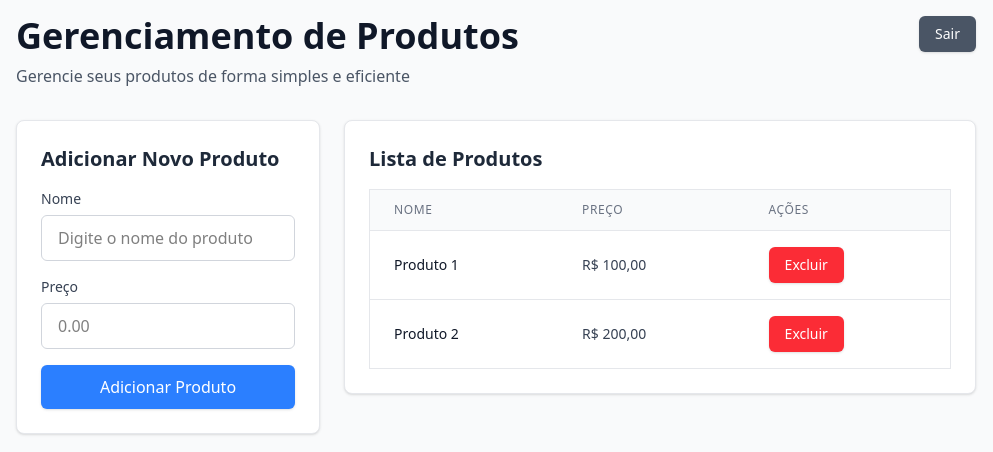
Test case: Products › remove produto da lista
Check: the text "Produto 1" is shown, box [370,230,558,300]
Click the button "Excluir" in the row of "Produto 1" at (806, 265), box [769,247,844,283]
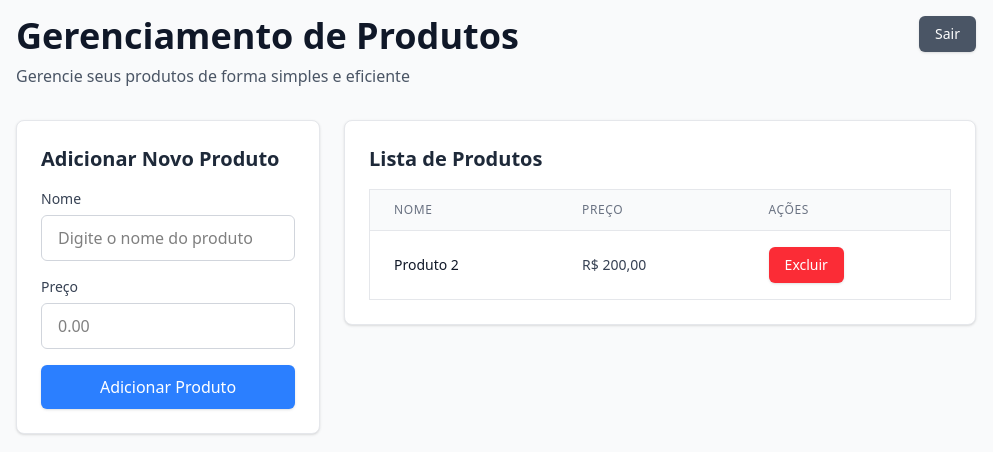
Check: the text "Produto 2" is shown, box [370,230,558,300]
Check: the text "Produto 1" is gone
